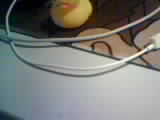duck: (48, 1, 87, 22)
